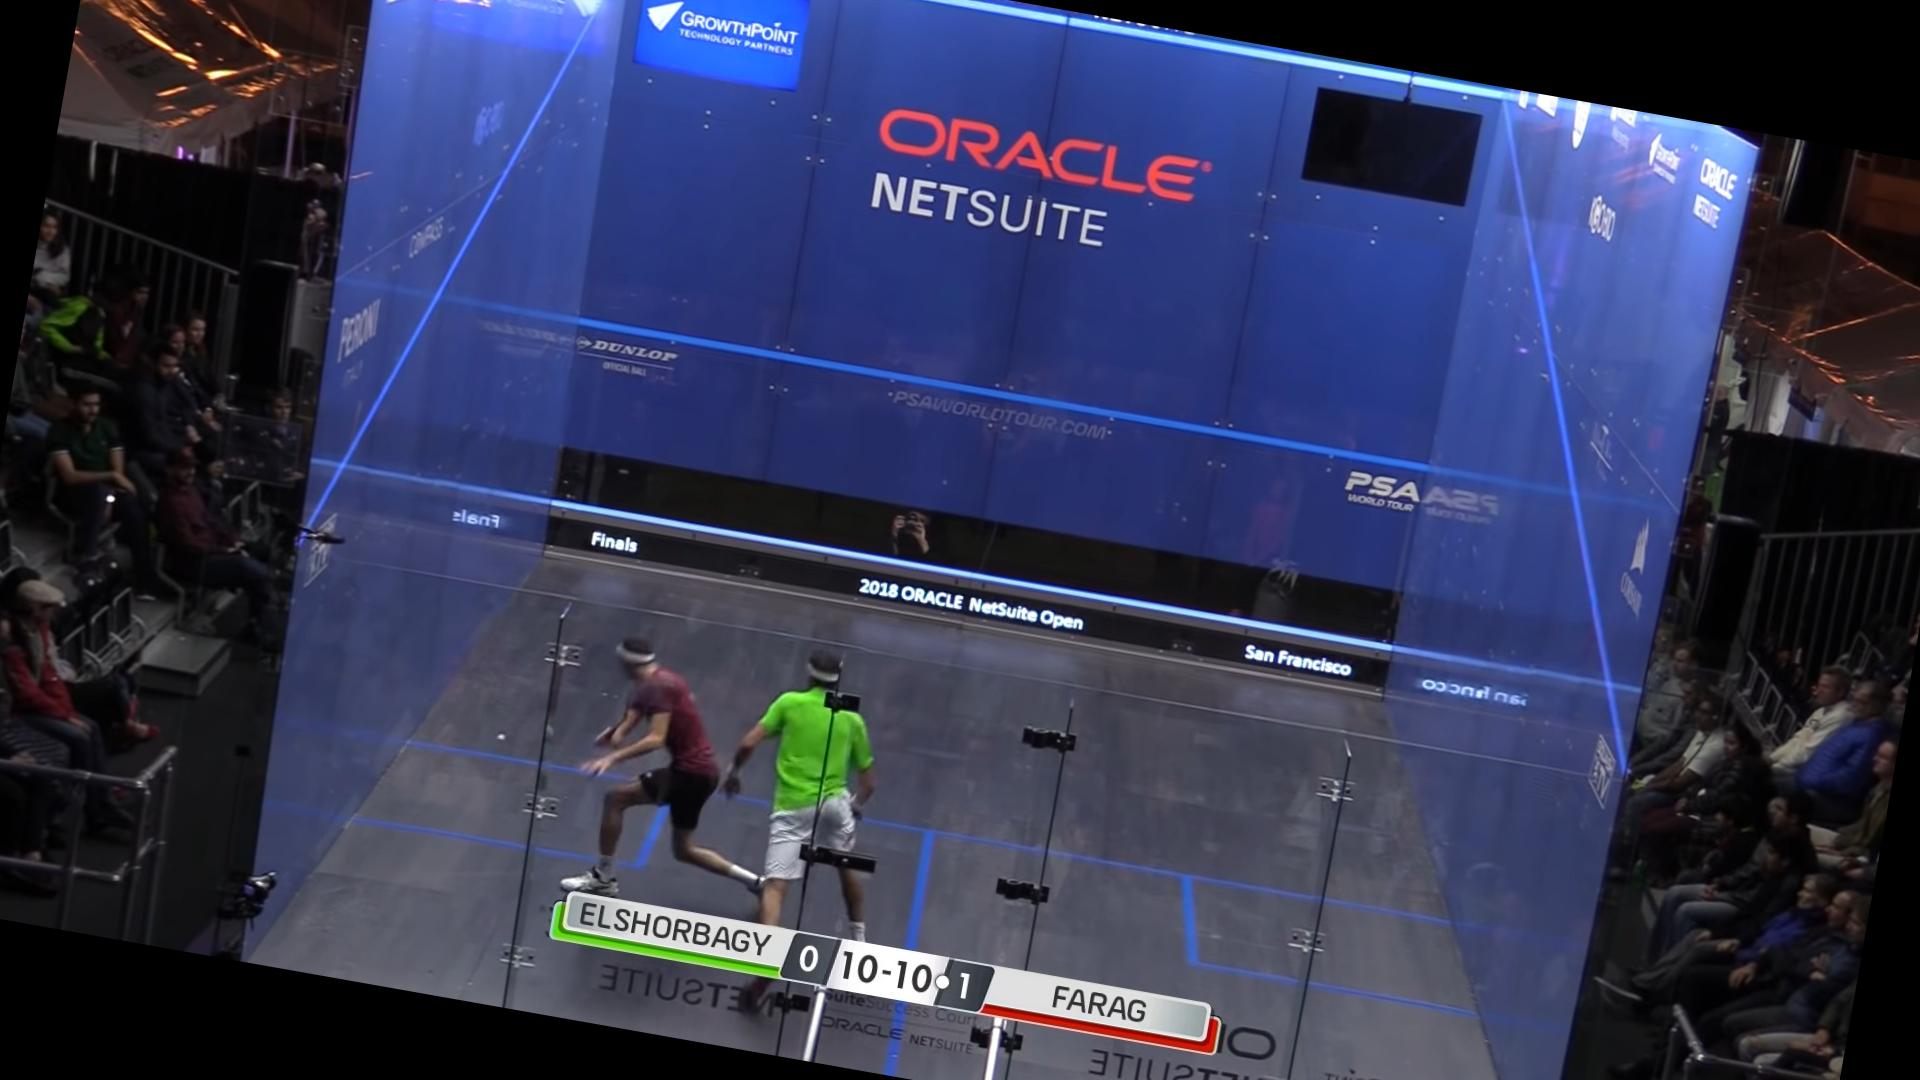Squash-Ball: (483, 723, 524, 749)
